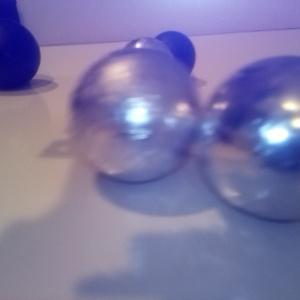alive_ball: (196, 54, 300, 222), (72, 49, 199, 182), (123, 38, 175, 89)
dead_ball: (1, 21, 41, 91), (150, 32, 196, 80)
